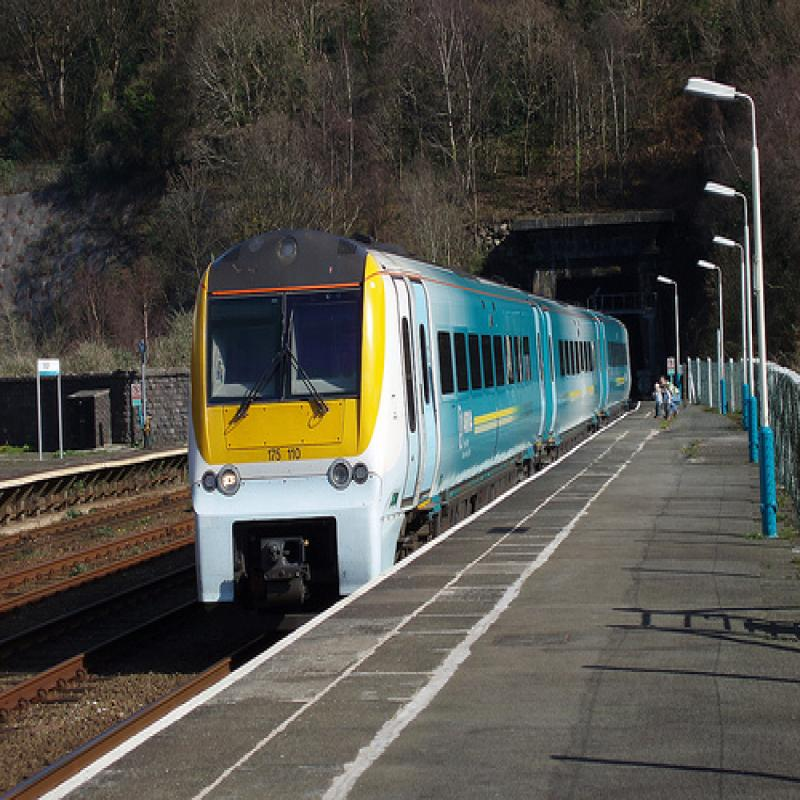train: (192, 232, 635, 631)
